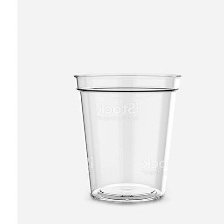glass: (59, 65, 192, 208)
